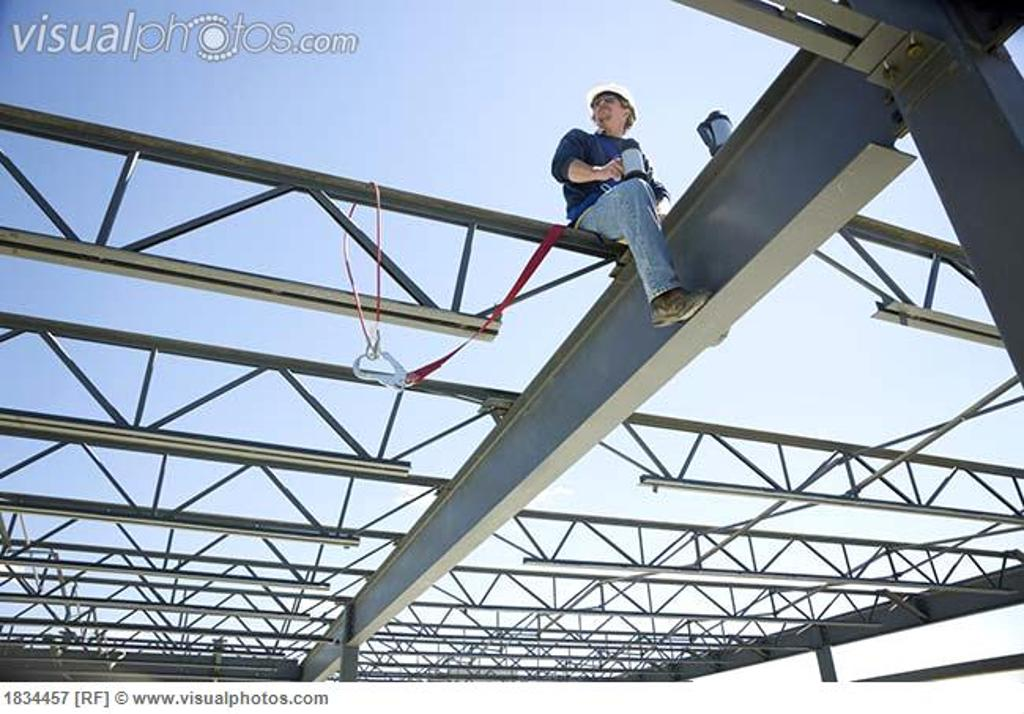face: (592, 94, 621, 127)
